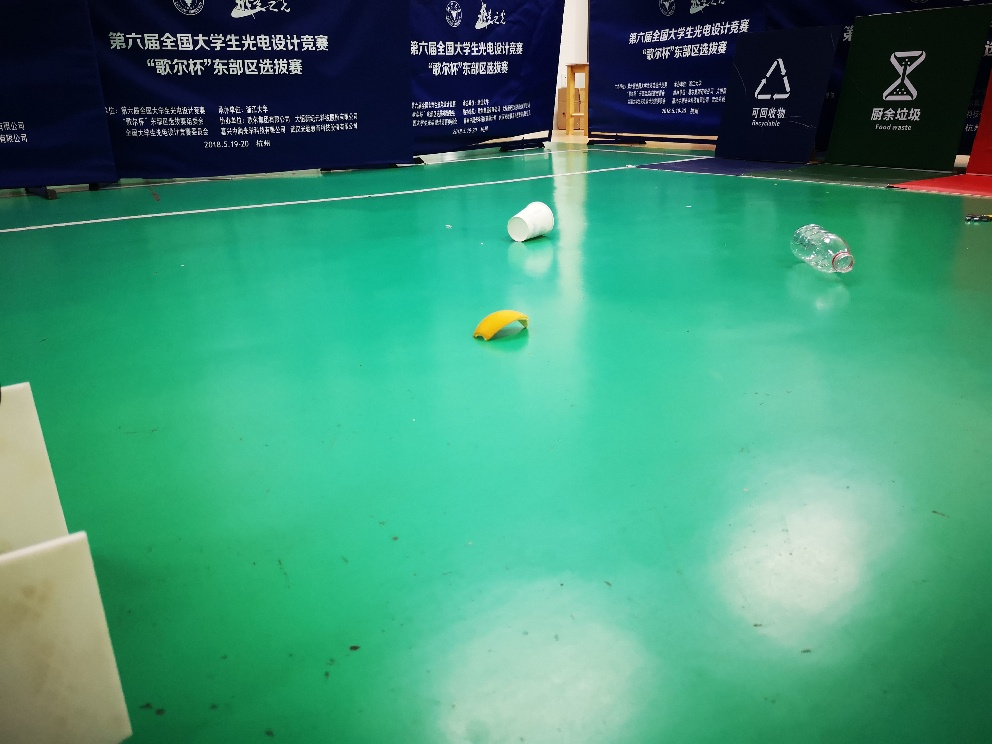bottle: (788, 221, 857, 279)
orangepeel: (472, 307, 531, 342)
papercup: (505, 200, 558, 244)
